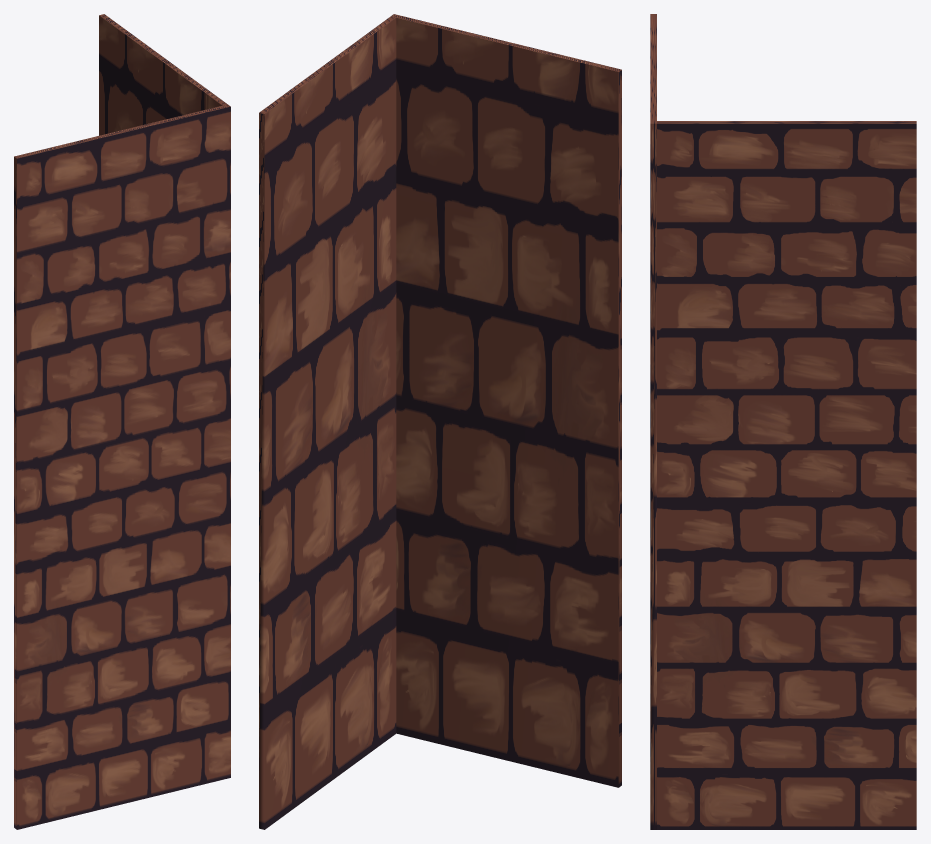
The model's file is Brick_Corner_Outfbx.fbx.
3 views of the same model, side by side, from view 1: azimuth 30°, elevation 25°; view 2: azimuth 150°, elevation 25°; view 3: azimuth 270°, elevation 25° (orthographic). The views are drawn at different scales.
Parts seen in each view (by area): view 1: polySurface1; view 2: polySurface1; view 3: polySurface1.
Part boxes in pixels (<box>): polySurface1: <box>14,14,230,829</box>; polySurface1: <box>259,14,621,829</box>; polySurface1: <box>650,14,916,829</box>.
Bounding box in the file's own units: 1 × 3 × 1.02.
Materials: 1 (1 with a texture image).
